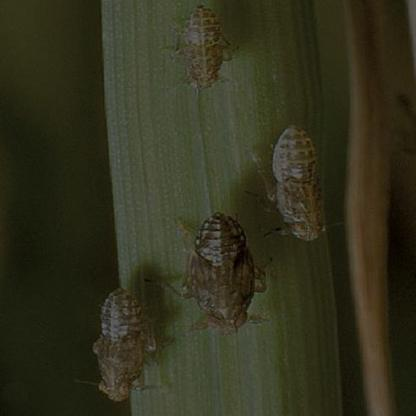brown-planthopper: (186, 211, 260, 330), (88, 285, 149, 403), (273, 124, 326, 240), (180, 5, 226, 90)
